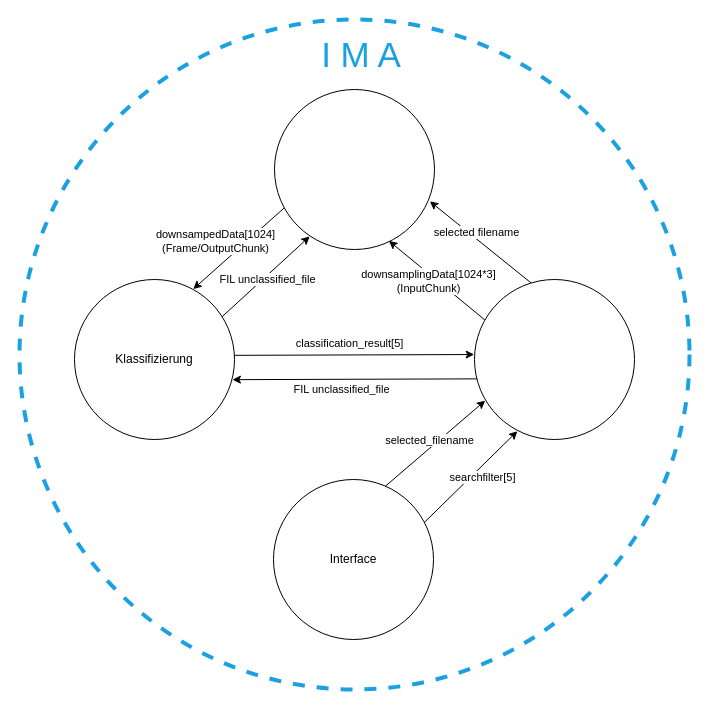
Image size: 708x708. Some labels were removed from this diagram. The box of each missing label's shape, as (x1, y1, x2, y2) in pixels:
Audioverarbeitung: (274, 88, 434, 250)
Filemanagement (Filemanager struct): (474, 278, 634, 440)
